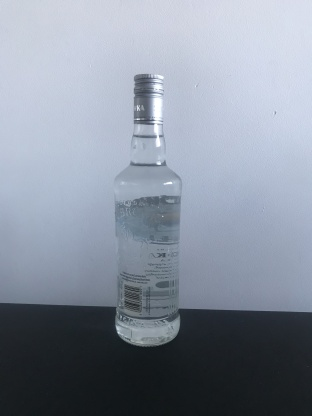nakretka: (131, 72, 166, 127)
